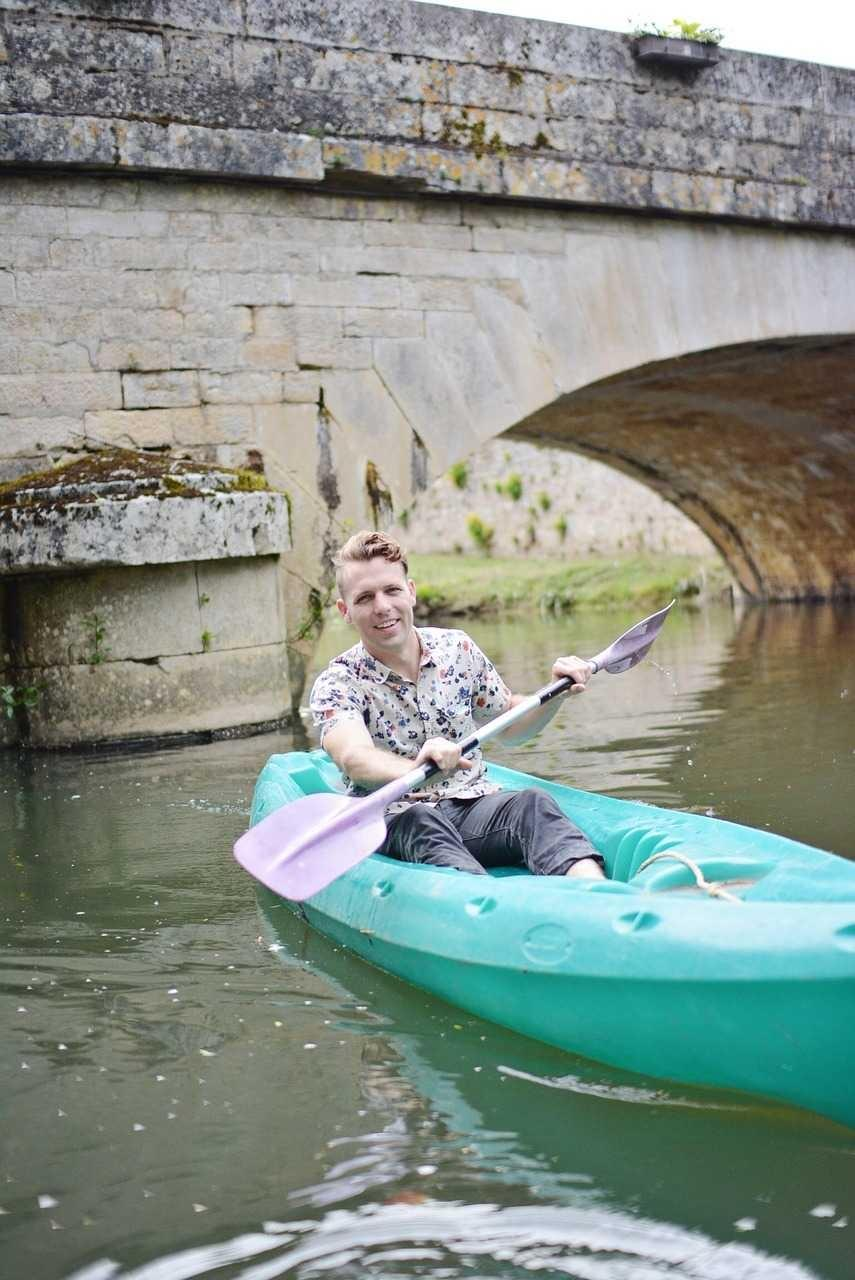kayak: (238, 757, 854, 1133)
